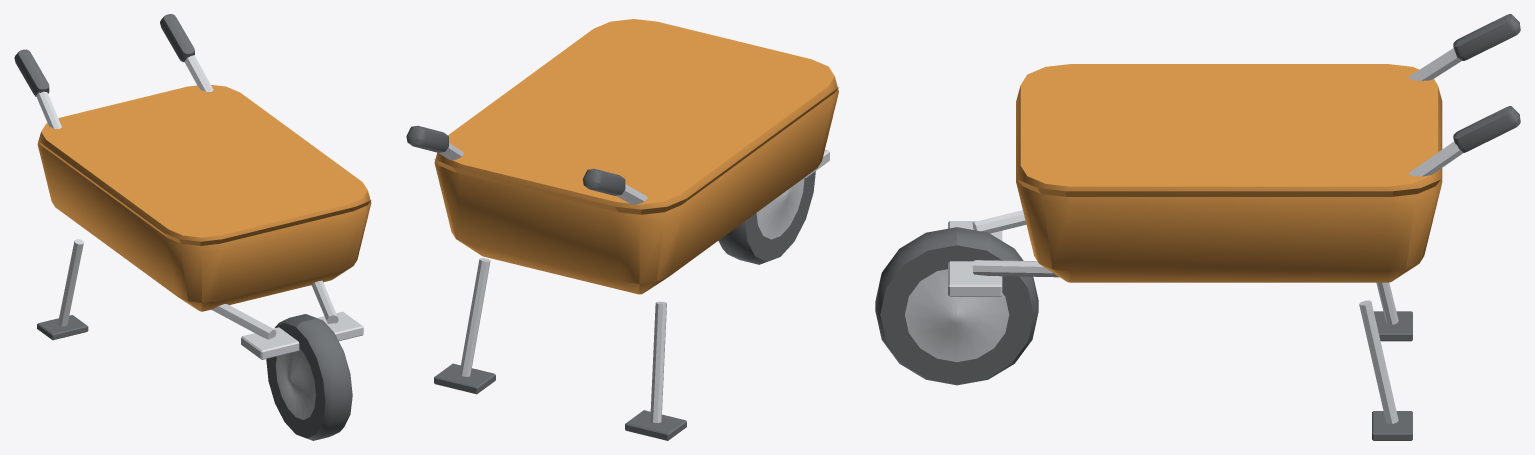
The picture shows the model from 3 angles, left to right: view 1: azimuth 30°, elevation 25°; view 2: azimuth 150°, elevation 25°; view 3: azimuth 270°, elevation 25°; orthographic projection. The views are drawn at different scales.
Parts seen in each view (by area): view 1: wheelbarrow; view 2: wheelbarrow; view 3: wheelbarrow.
Boxes of the visible parts, <box> form: wheelbarrow: <box>14,14,371,440</box>; wheelbarrow: <box>406,19,838,440</box>; wheelbarrow: <box>875,14,1520,440</box>.
Bounding box in the file's own units: 0.688 × 0.7743 × 1.42.
